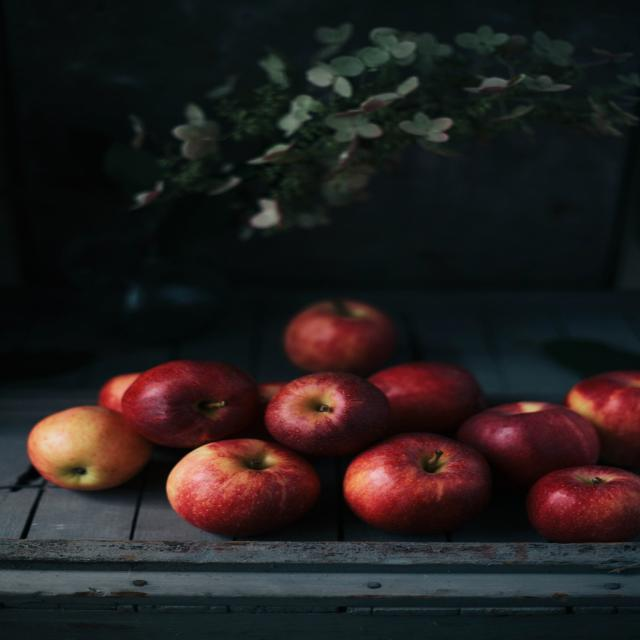Healty Apple: (21, 292, 640, 538), (337, 444, 493, 537)
